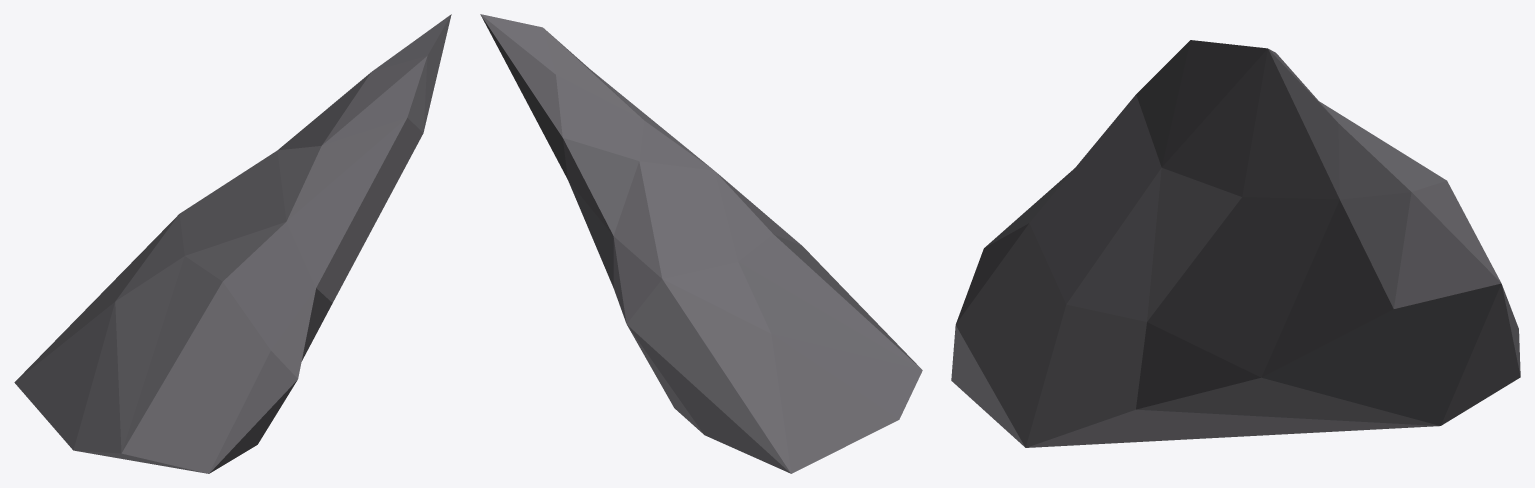
File: Rock_Sharp_l_01.fbx
3 views of the same model, side by side, from view 1: azimuth 30°, elevation 25°; view 2: azimuth 150°, elevation 25°; view 3: azimuth 270°, elevation 25° (orthographic). The views are drawn at different scales.
Visible parts, largest first — view 1: Rock_Sharp_l_01; view 2: Rock_Sharp_l_01; view 3: Rock_Sharp_l_01.
Boxes of the visible parts, left/top/right/bottom form: Rock_Sharp_l_01: left=14, top=14, right=451, bottom=473; Rock_Sharp_l_01: left=480, top=14, right=922, bottom=473; Rock_Sharp_l_01: left=951, top=40, right=1520, bottom=447.
Bounding box in the file's own units: 13.04 × 10.12 × 8.07.
